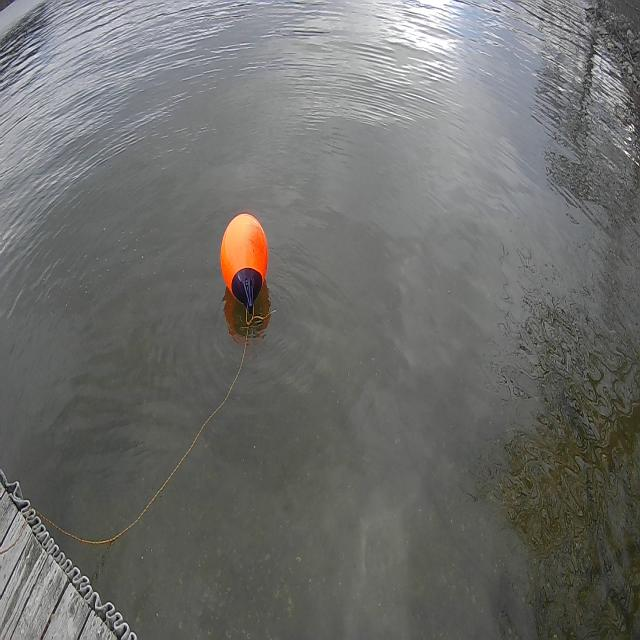Buoy: (218, 211, 272, 301)
